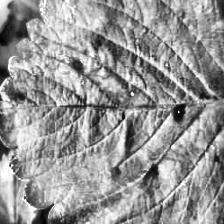Leaf Spot: (0, 0, 224, 224), (179, 97, 224, 224), (194, 0, 223, 128), (0, 147, 44, 224)
